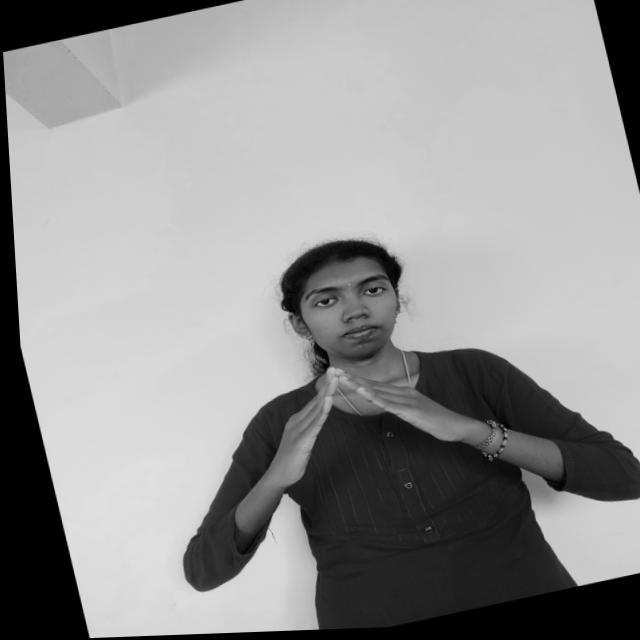Home: (214, 337, 486, 507)
